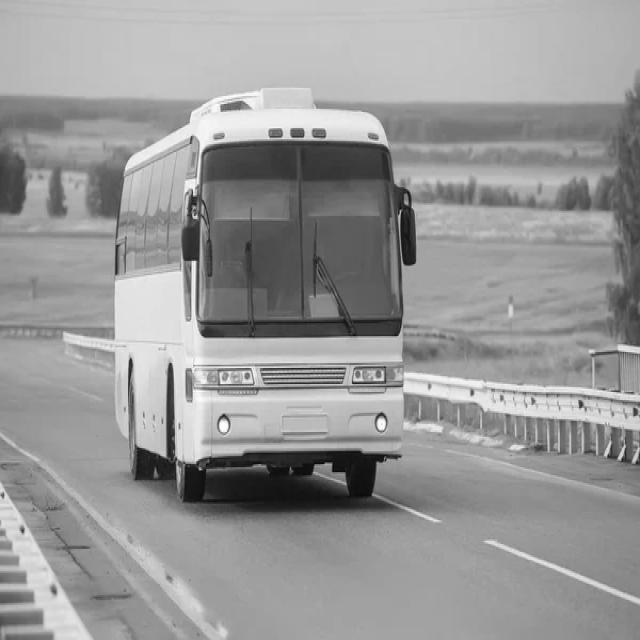Bus: (114, 88, 417, 502)
